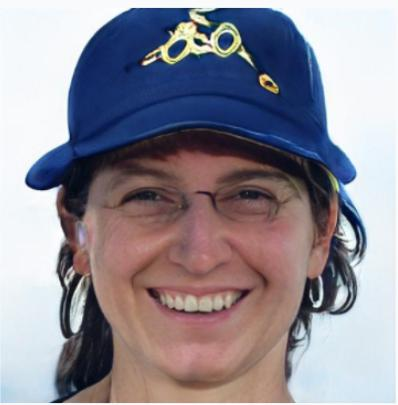defect: (23, 170, 101, 346)
